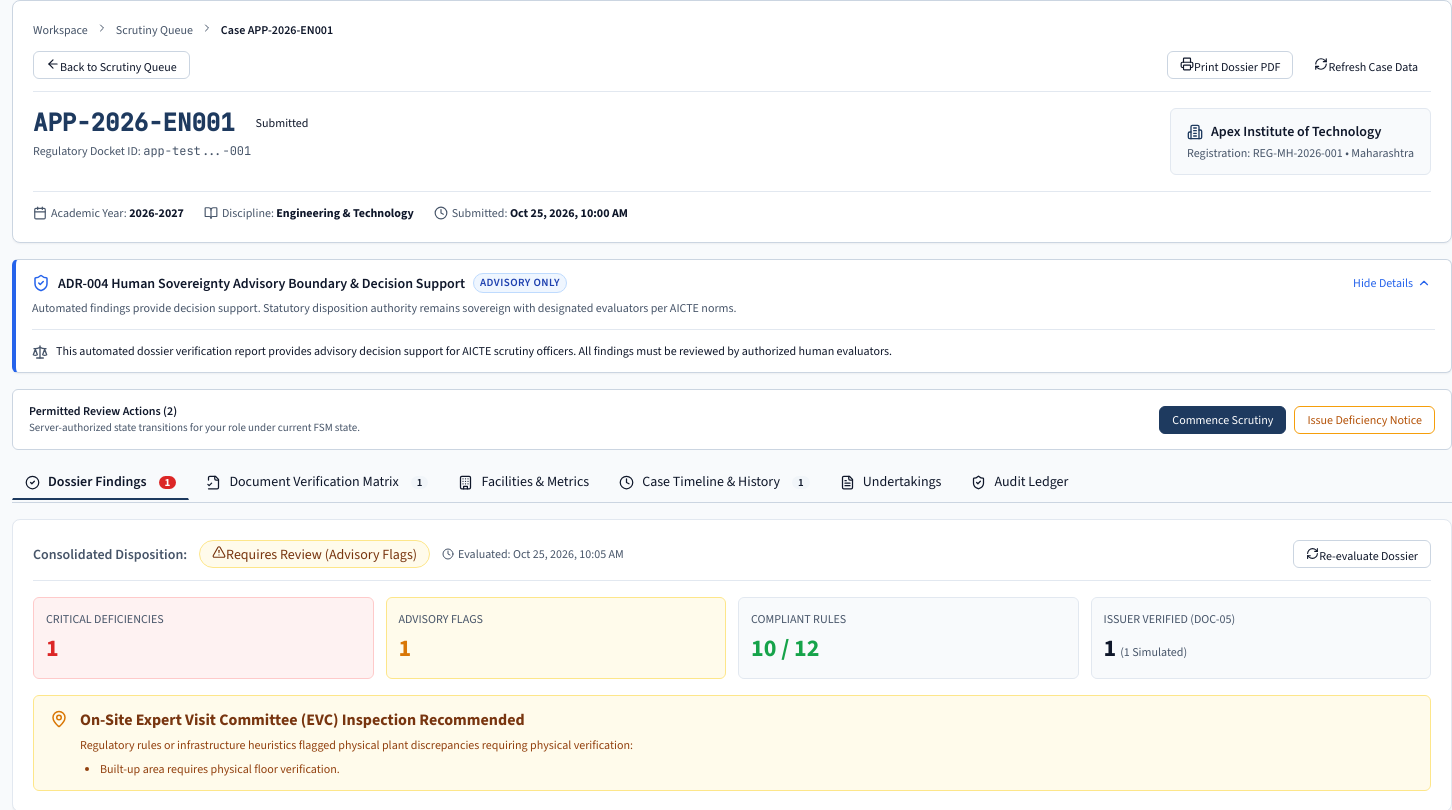
Test: Case Detail & Evidence Review (FE-04) › switches to timeline tab and displays audit events
The image size is (1452, 810).
Check: the heading "APP-2026-EN001" is shown, box [33,108,235,138]
Click the tab "Case Timeline & History 1": (714, 483) [606,466,823,500]
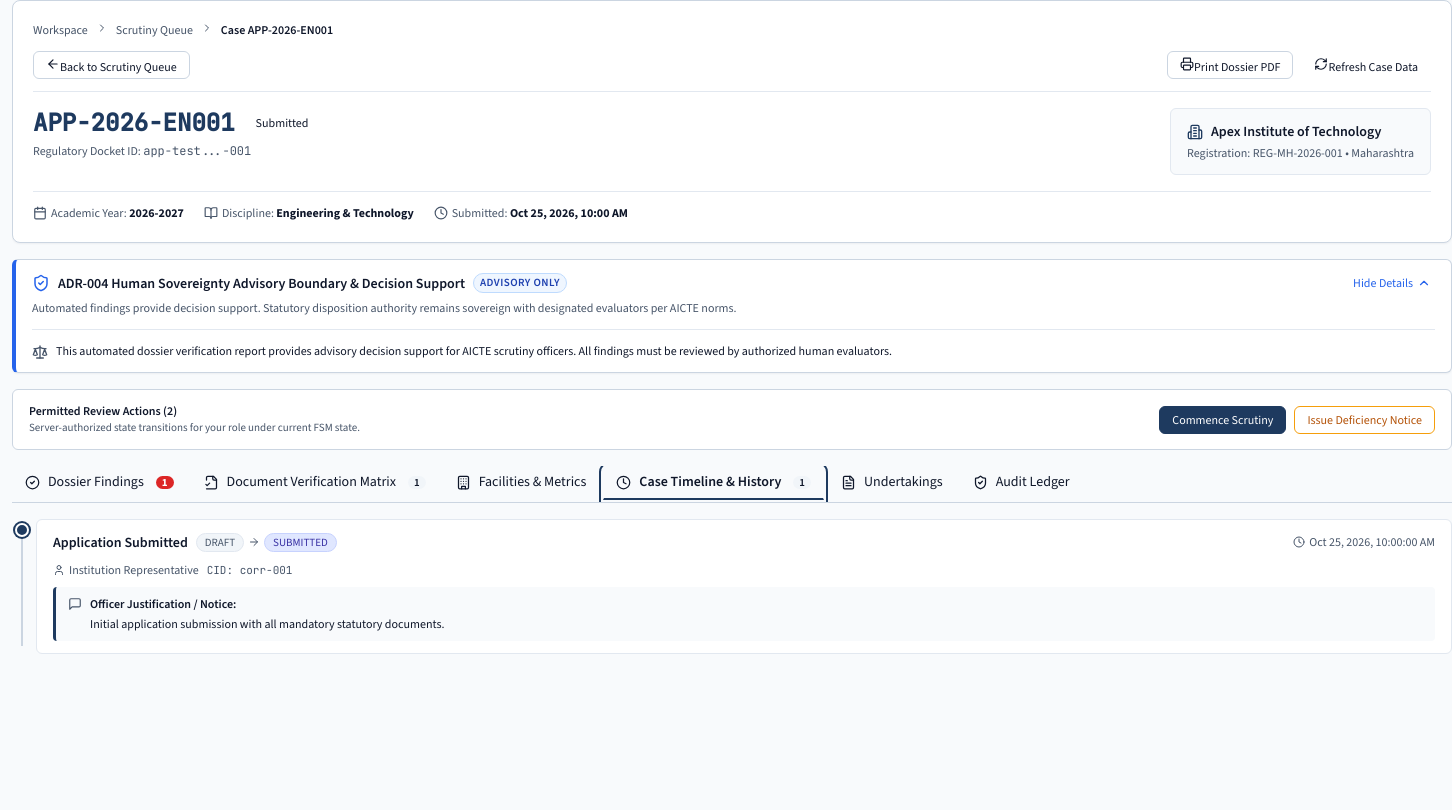
Check: the text "Application Submitted" is shown, box [53,532,188,553]
Check: the text "Initial application submission with all mandatory statutory documents." is shown, box [90,616,444,632]
